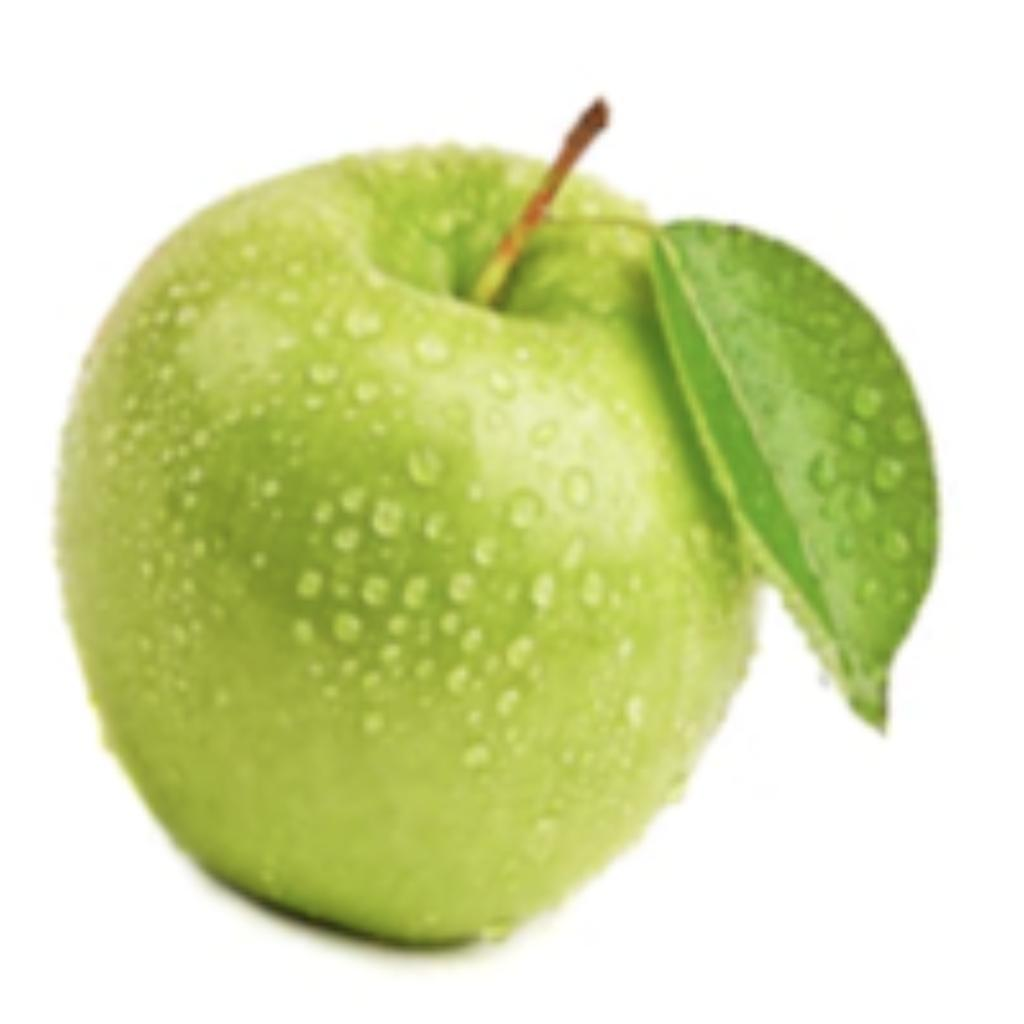apple: (41, 87, 947, 978)
